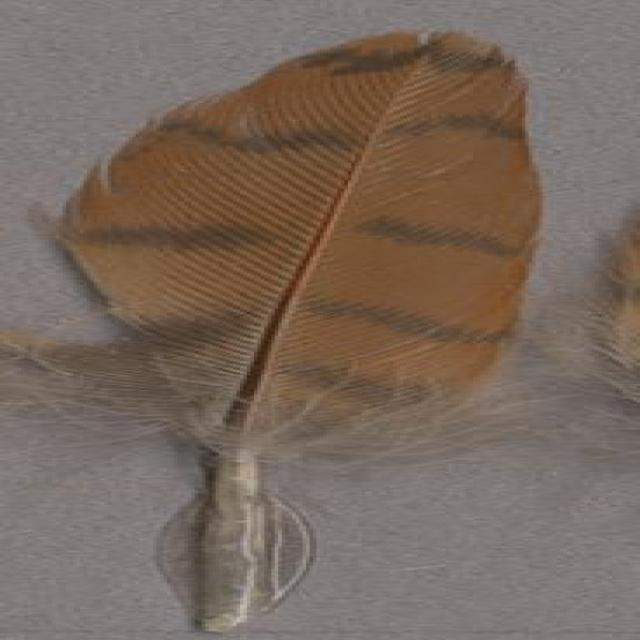feather: (0, 29, 576, 634)
